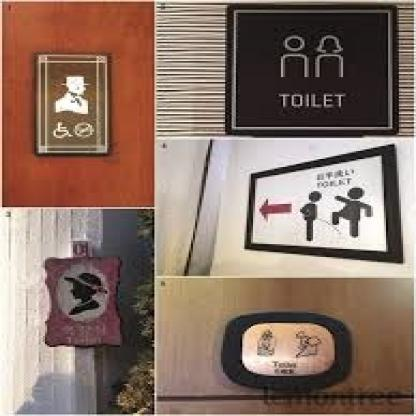toilet: (270, 28, 351, 84)
